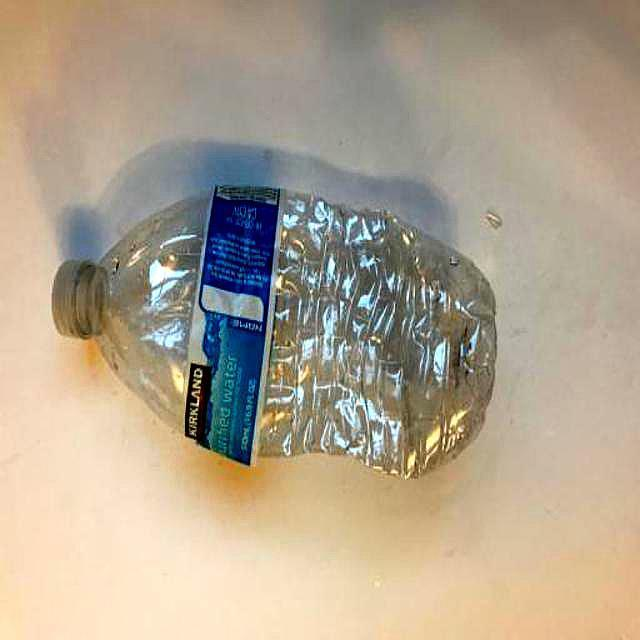Non-biodegradable: (49, 187, 509, 485)
